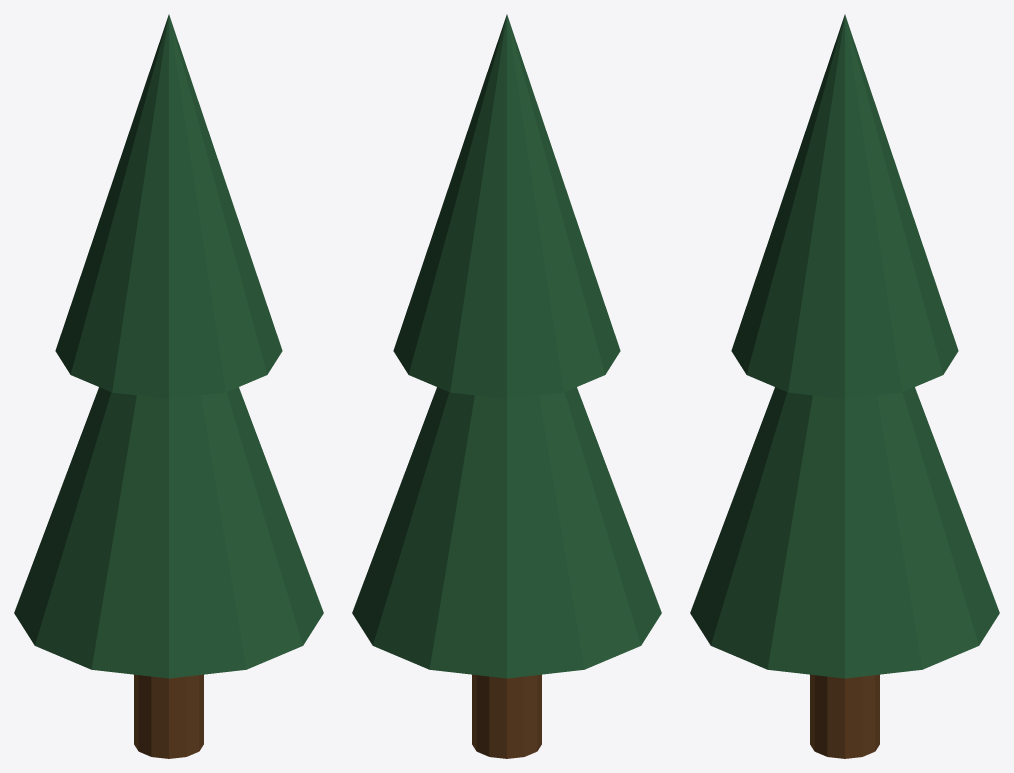
File: cypress.glb
3 renders of one model, left to right at view 1: azimuth 30°, elevation 25°; view 2: azimuth 150°, elevation 25°; view 3: azimuth 270°, elevation 25°, orthographic.
Parts seen in each view (by area): view 1: Cypress; view 2: Cypress; view 3: Cypress.
Part boxes in pixels (x1,y1,x2,y2): Cypress: (14, 14, 323, 758); Cypress: (352, 14, 661, 758); Cypress: (690, 14, 999, 758).
Bounding box in the file's own units: 1.5 × 3.9 × 1.5.
